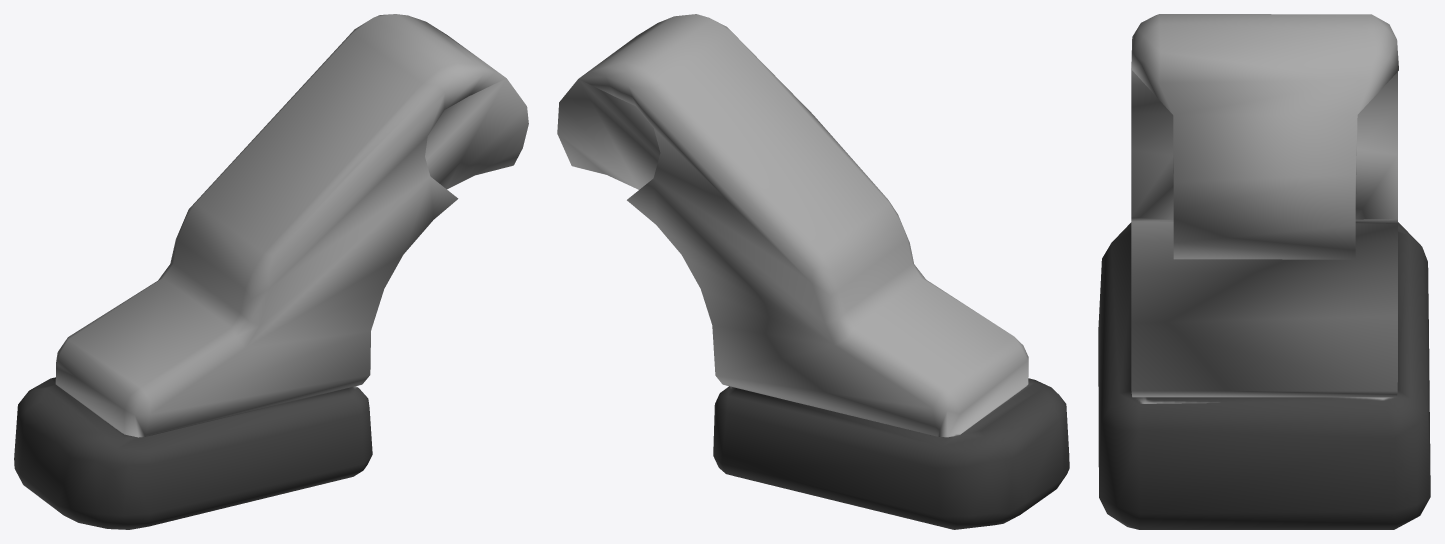
File: r_gripper_r_finger_tip_link.OBJ
The picture shows the model from 3 angles, left to right: view 1: azimuth 30°, elevation 25°; view 2: azimuth 150°, elevation 25°; view 3: azimuth 270°, elevation 25°; orthographic projection. The views are drawn at different scales.
Visible parts, largest first — view 1: /ambf/env/pr2/r_gripper_r_finger_tip_link_/ambf/env/pr2/r_grippe; view 2: /ambf/env/pr2/r_gripper_r_finger_tip_link_/ambf/env/pr2/r_grippe; view 3: /ambf/env/pr2/r_gripper_r_finger_tip_link_/ambf/env/pr2/r_grippe.
Boxes of the visible parts, x1,y1,x2,y2 form: /ambf/env/pr2/r_gripper_r_finger_tip_link_/ambf/env/pr2/r_grippe: (14,14,528,529); /ambf/env/pr2/r_gripper_r_finger_tip_link_/ambf/env/pr2/r_grippe: (557,14,1069,529); /ambf/env/pr2/r_gripper_r_finger_tip_link_/ambf/env/pr2/r_grippe: (1098,14,1430,529).
Bounding box in the file's own units: 0.0568 × 0.0447 × 0.0228.
